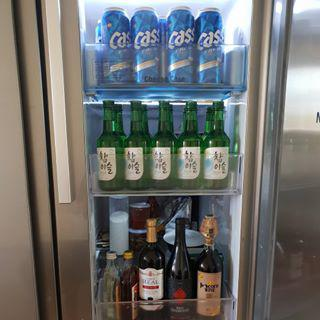soju: (96, 99, 232, 188)
